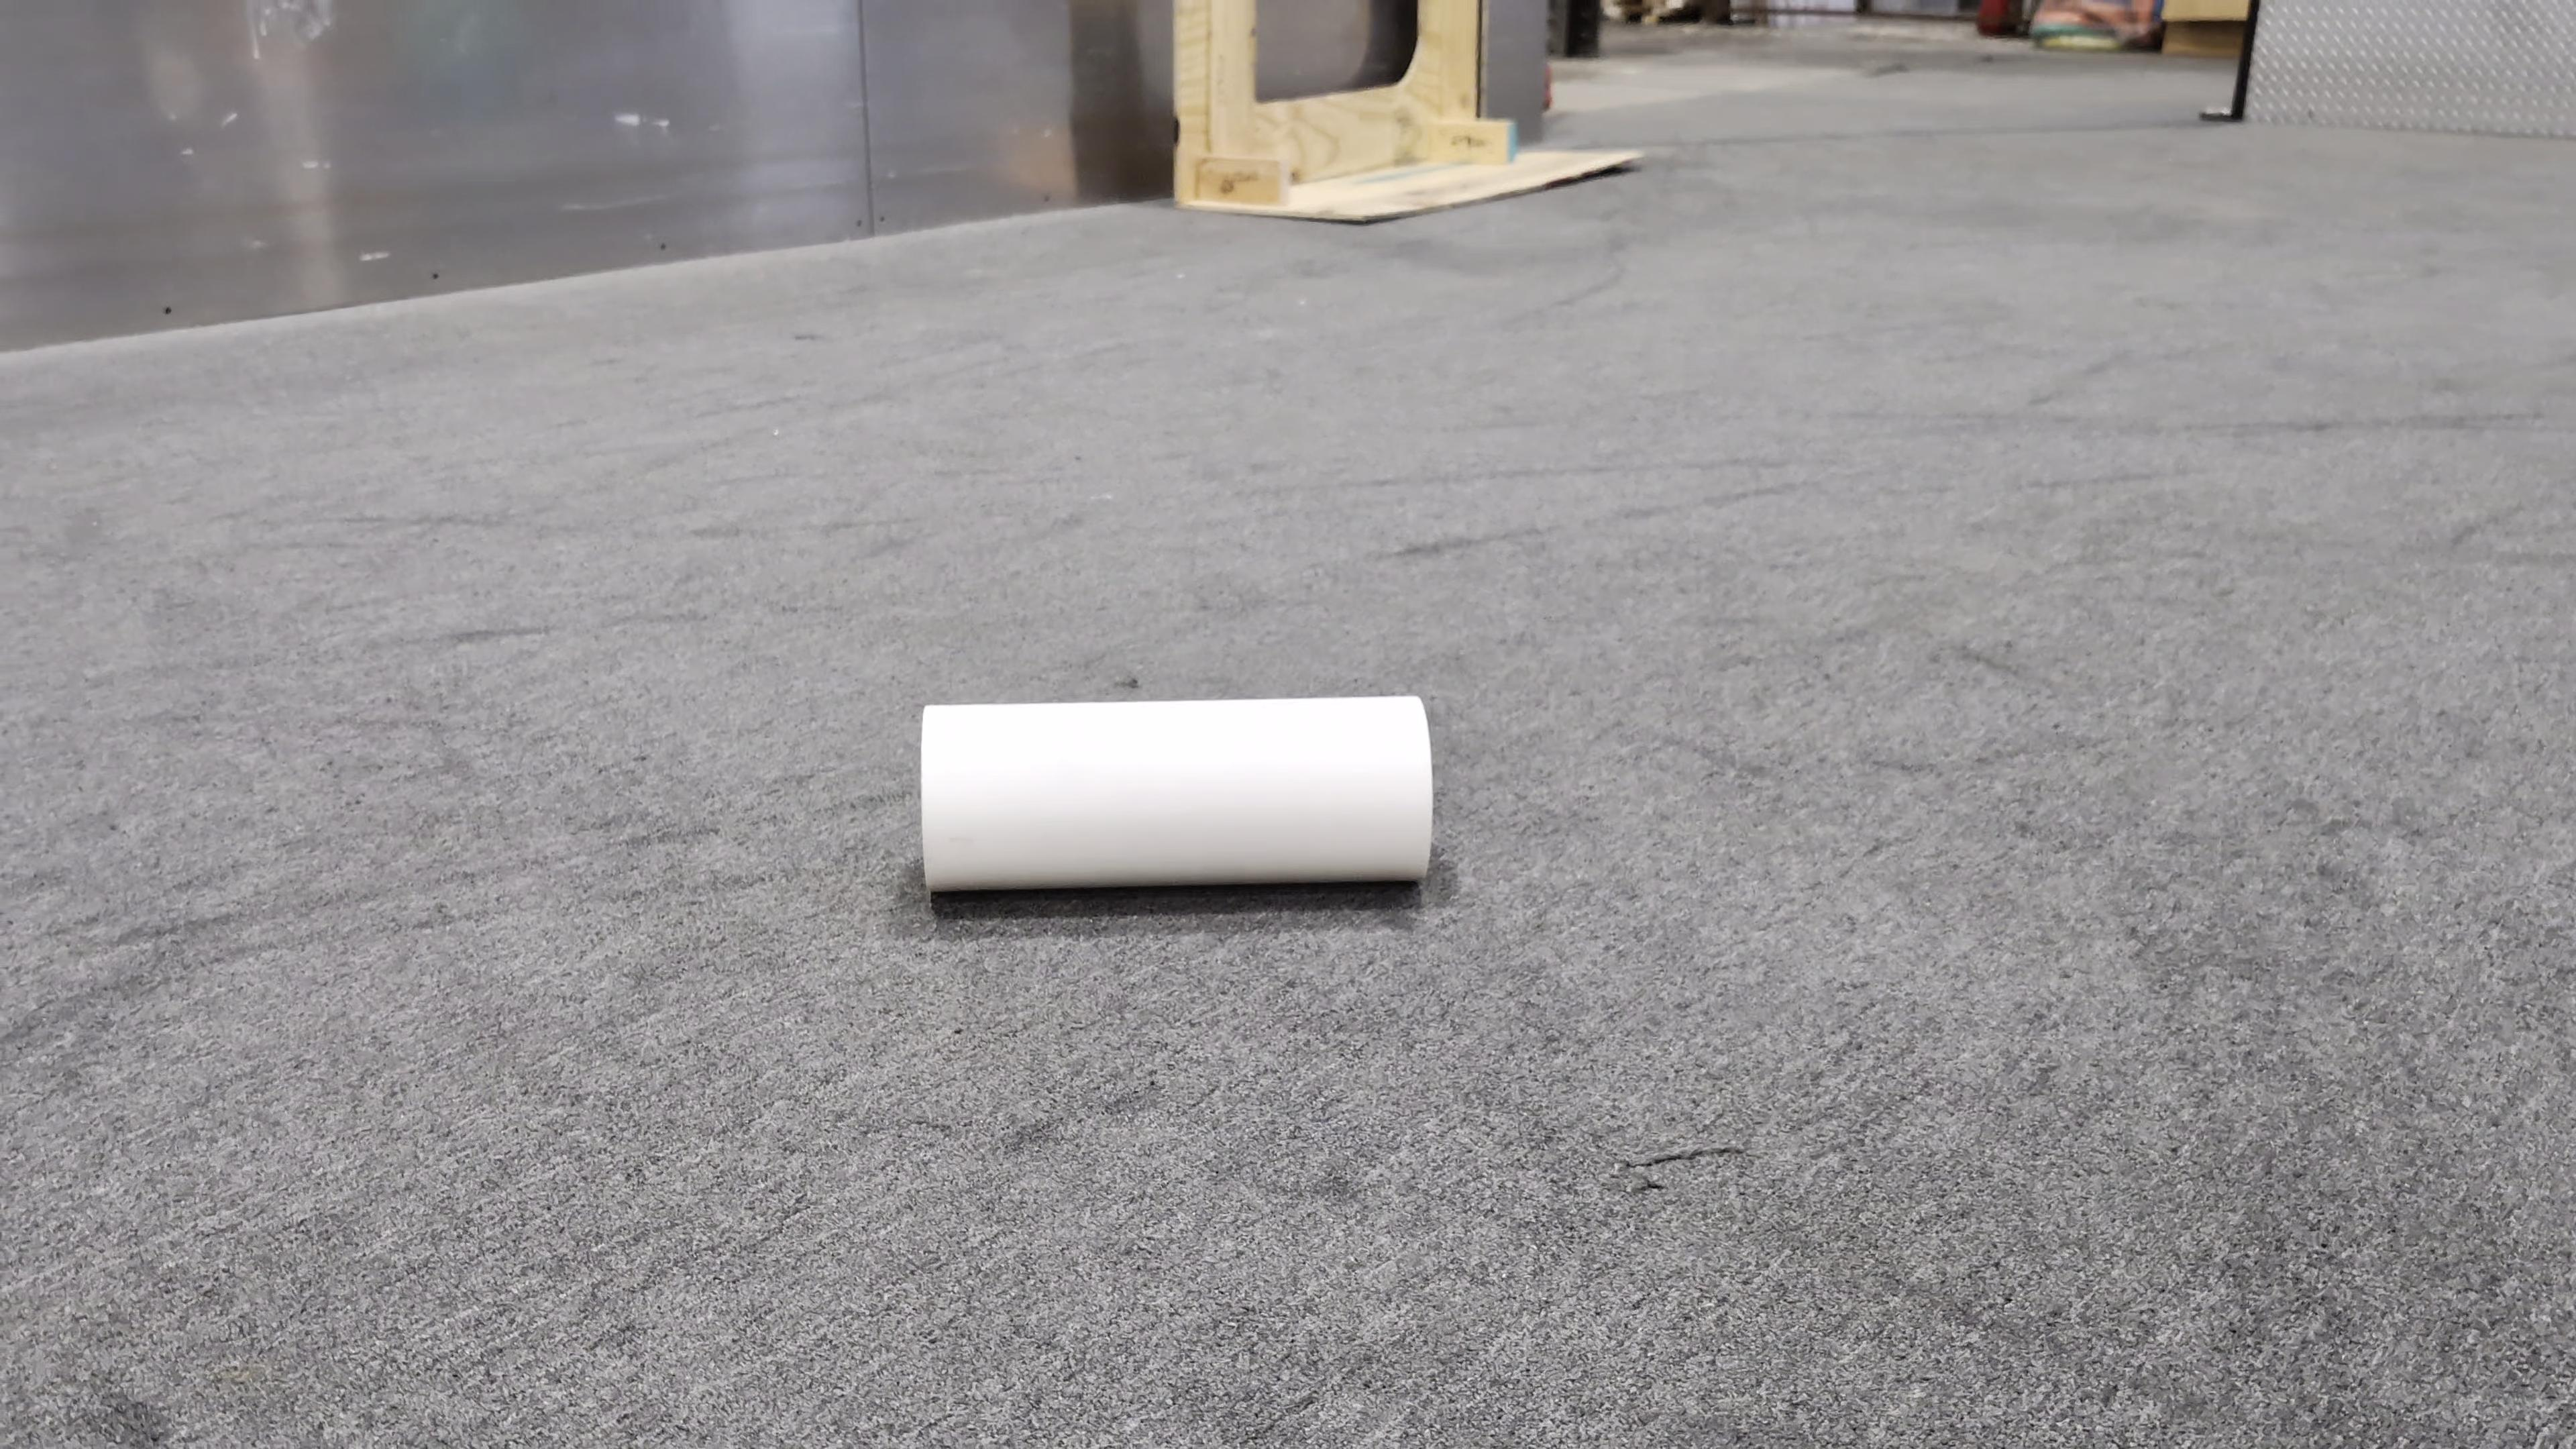coral: (924, 697, 1433, 888)
